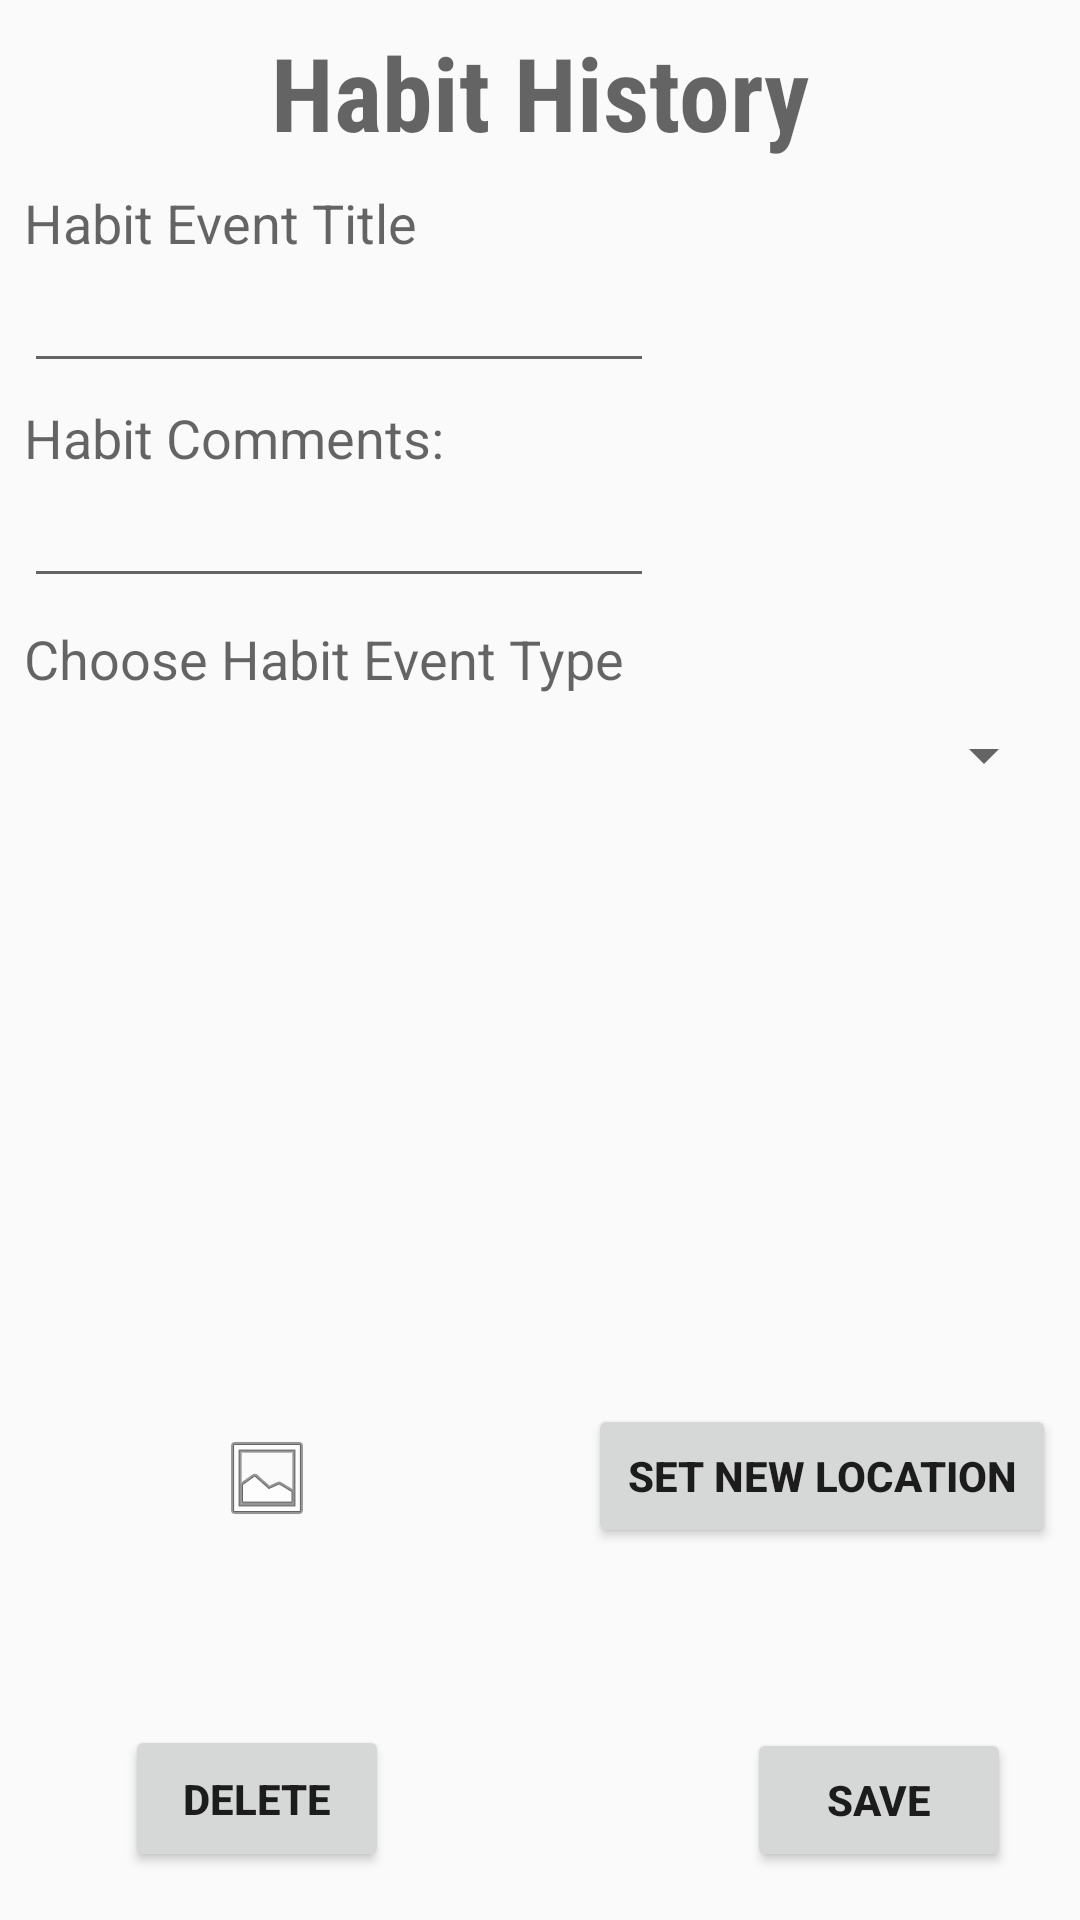

Point at icon controls on the screen. Image size 1080×1920, points as [x,y].
gallery: [267,1478]
